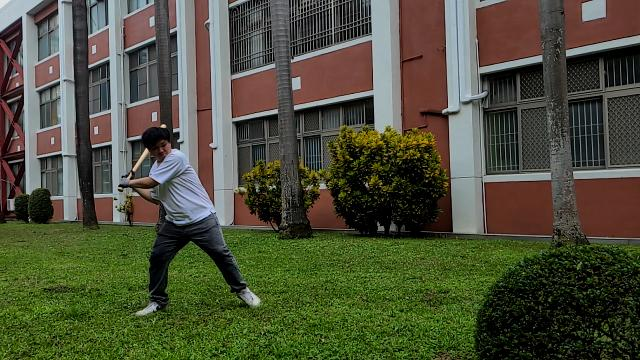baseball bat: (132, 121, 170, 172)
